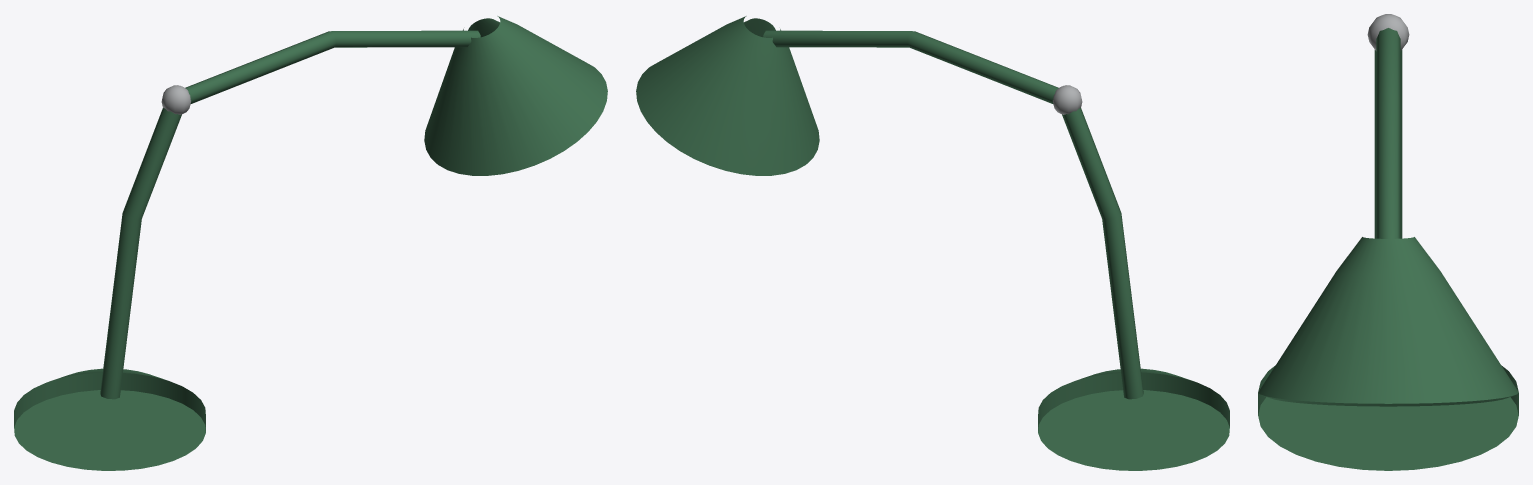
The model's file is DenBanHoc.glb.
3 renders of one model, left to right at view 1: azimuth 30°, elevation 25°; view 2: azimuth 150°, elevation 25°; view 3: azimuth 270°, elevation 25°, orthographic. The views are drawn at different scales.
Visible parts, largest first — view 1: geometry_0; view 2: geometry_0; view 3: geometry_0.
Part boxes in pixels (left/top/right/bottom): geometry_0: left=14, top=16, right=607, bottom=470; geometry_0: left=636, top=16, right=1229, bottom=470; geometry_0: left=1258, top=14, right=1518, bottom=470.
Bounding box in the file's own units: 0.5113 × 0.297 × 0.15.
